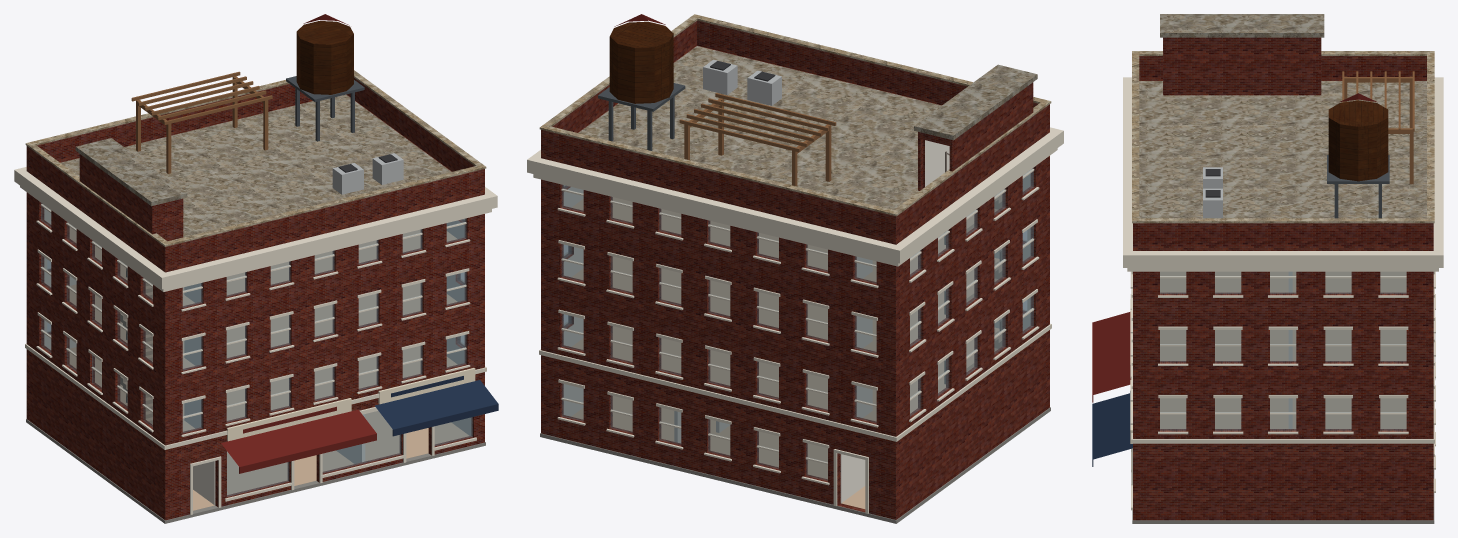
Rendered from ns-main-street.towns-v1.lod0.glb.
The picture shows the model from 3 angles, left to right: view 1: azimuth 30°, elevation 25°; view 2: azimuth 150°, elevation 25°; view 3: azimuth 270°, elevation 25°; orthographic projection. The views are drawn at different scales.
Parts seen in each view (by area): view 1: ns-main-street; view 2: ns-main-street; view 3: ns-main-street.
Part boxes in pixels (x1,y1,x2,y2): ns-main-street: [14, 14, 498, 523]; ns-main-street: [527, 14, 1063, 523]; ns-main-street: [1092, 14, 1443, 523].
Size of the model in its own units: 16.8 by 17.65 by 14.02.
7 materials, 3 textured.
